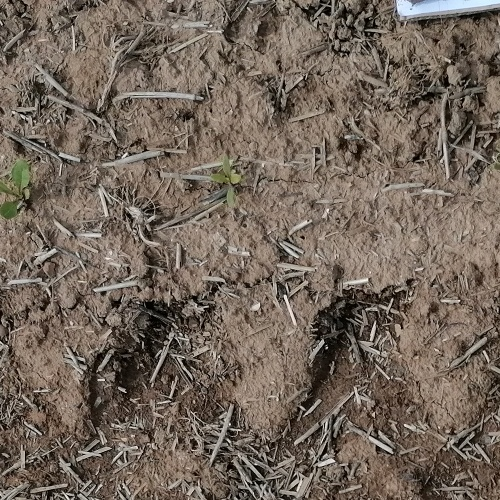beet: (0, 160, 31, 220), (214, 158, 243, 206)
